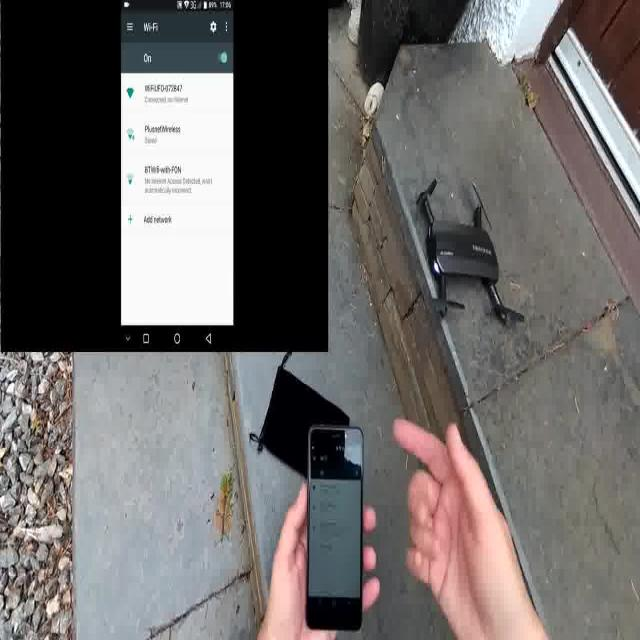drone: (413, 176, 526, 332)
